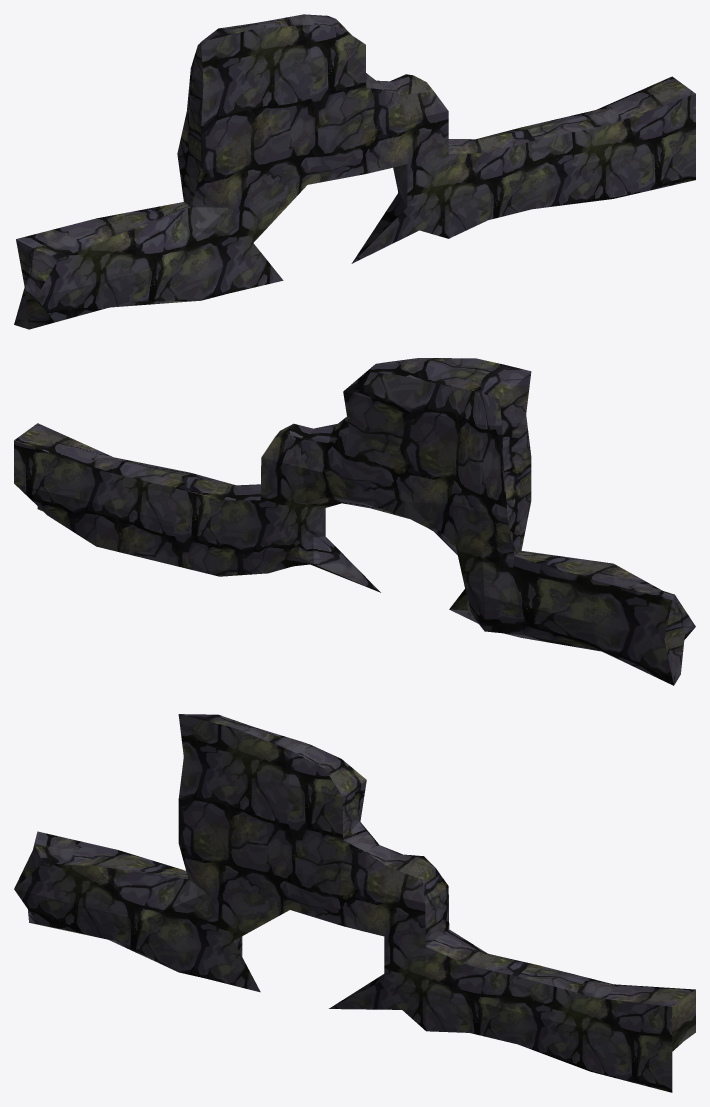
Rendered from Ruins_05.fbx.
3 renders of one model, top to bottom at view 1: azimuth 30°, elevation 25°; view 2: azimuth 150°, elevation 25°; view 3: azimuth 330°, elevation 25°, orthographic.
Parts seen in each view (by area): view 1: Ruins_05; view 2: Ruins_05; view 3: Ruins_05.
Part boxes in pixels (bbox=[...]): Ruins_05: bbox=[14, 14, 695, 329]; Ruins_05: bbox=[14, 358, 695, 685]; Ruins_05: bbox=[14, 714, 695, 1092].
Bounding box in the file's own units: 1 × 0.3751 × 0.0623.
1 material, 1 textured.
